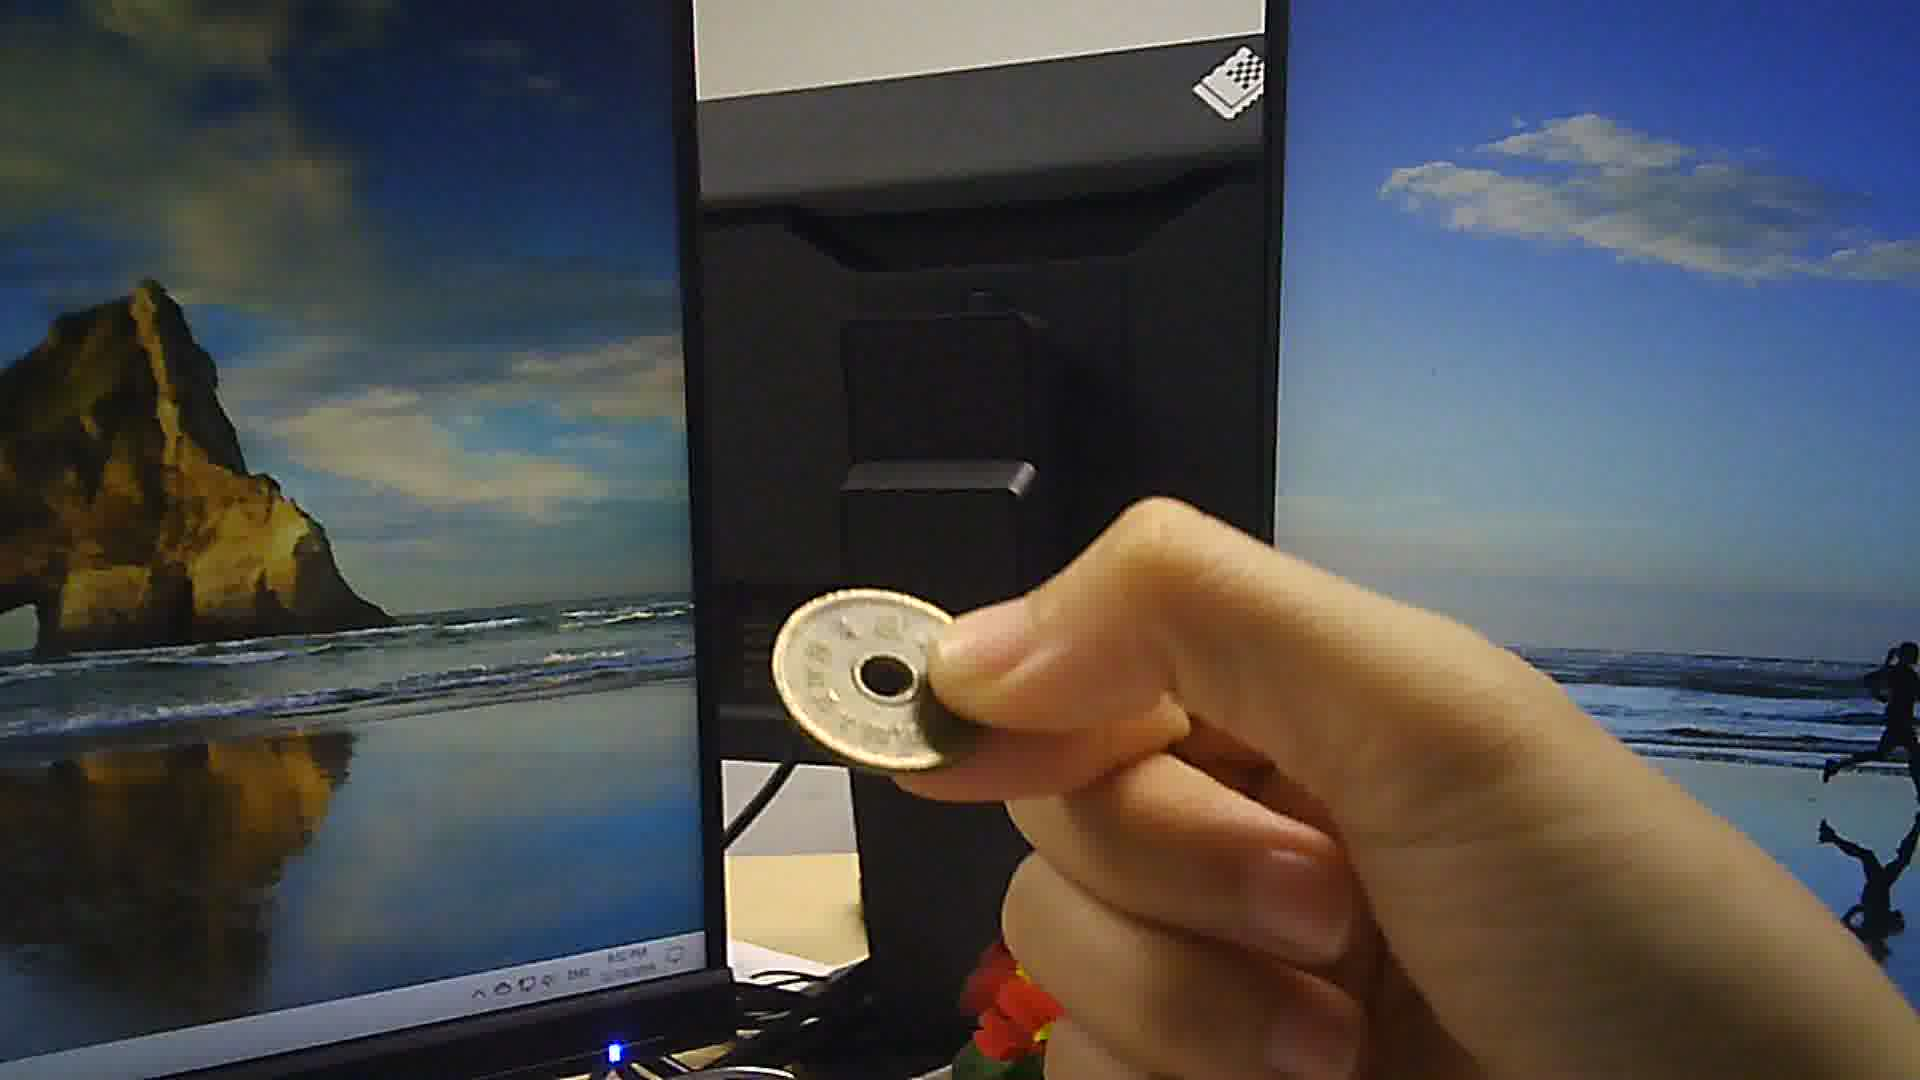5 Yen: (771, 584, 986, 782)
